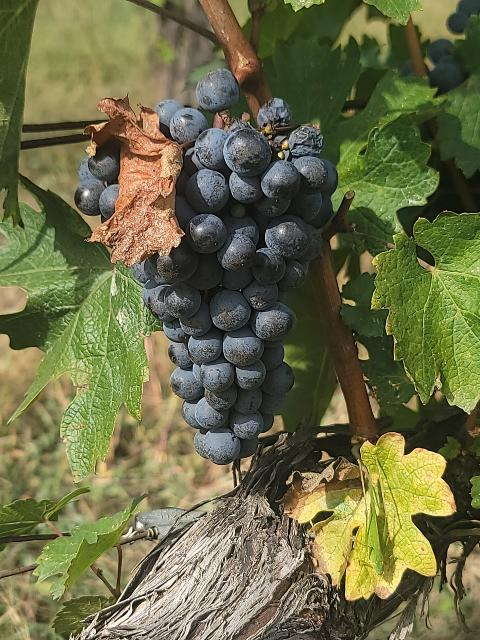grapes: (75, 69, 339, 464), (131, 99, 338, 465)
